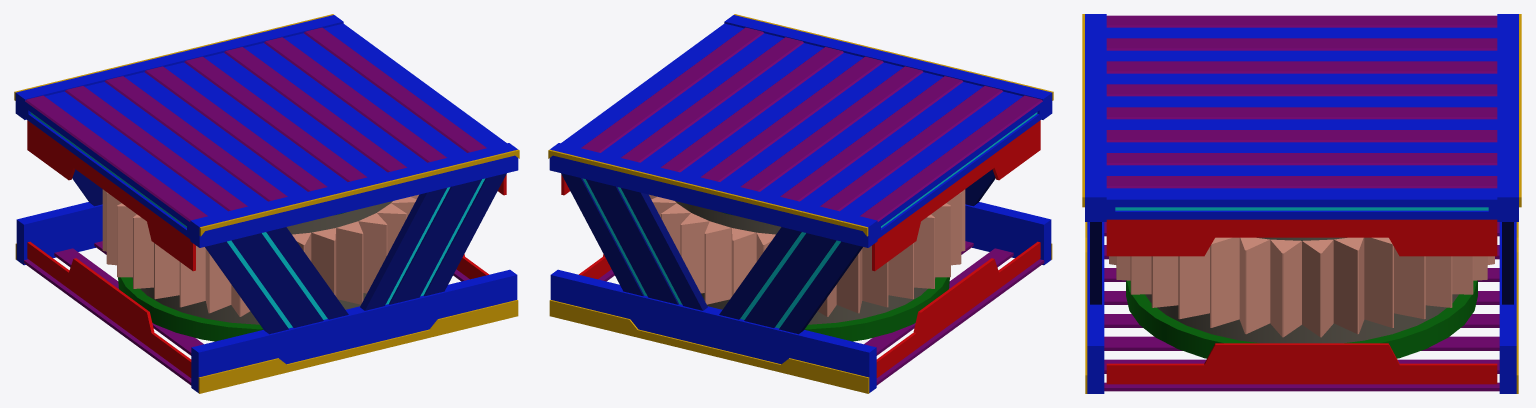
3 views of the same model, side by side, from view 1: azimuth 30°, elevation 25°; view 2: azimuth 150°, elevation 25°; view 3: azimuth 270°, elevation 25° (orthographic). The views are drawn at different scales.
Parts seen in each view (by area): view 1: BT_Box_A_01; view 2: BT_Box_A_01; view 3: BT_Box_A_01.
Boxes of the visible parts, x1,y1,x2,y2 form: BT_Box_A_01: (14, 14, 519, 393); BT_Box_A_01: (548, 14, 1053, 393); BT_Box_A_01: (1082, 14, 1521, 393).
Size of the model in its own units: 200 by 100 by 203.
